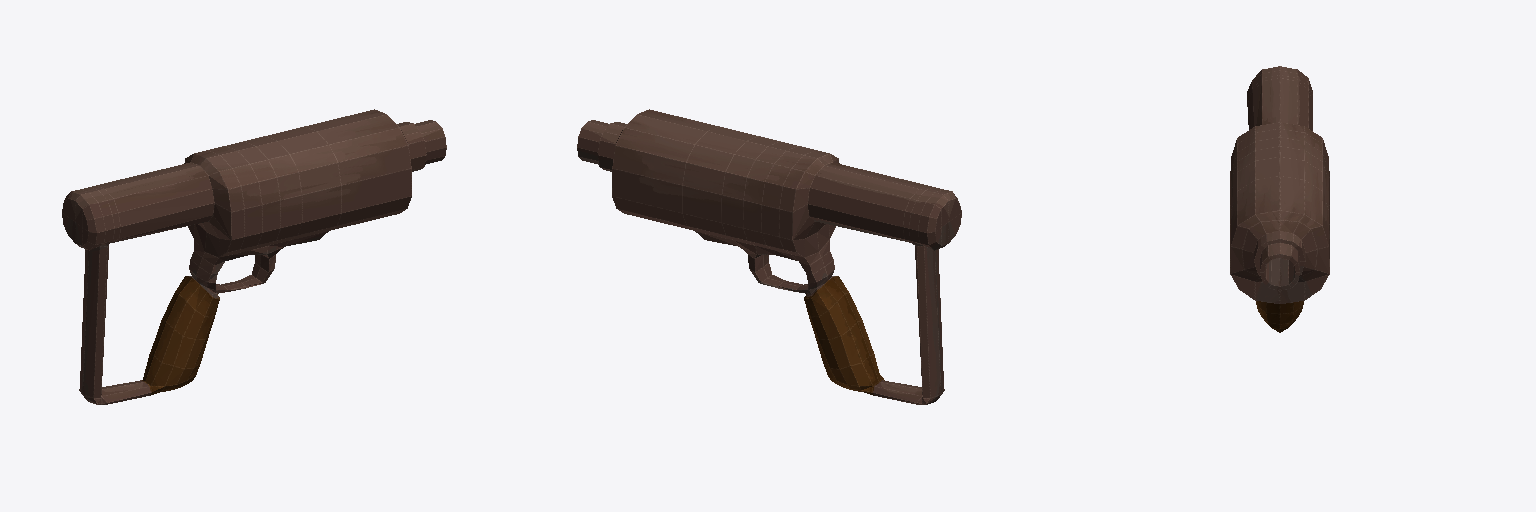
The picture shows the model from 3 angles: view 1: azimuth 30°, elevation 25°; view 2: azimuth 150°, elevation 25°; view 3: azimuth 270°, elevation 25°; orthographic projection.
Visible parts, largest first — view 1: GP_Hook; view 2: GP_Hook; view 3: GP_Hook.
Boxes of the visible parts, x1,y1,x2,y2 form: GP_Hook: [62, 109, 446, 404]; GP_Hook: [577, 109, 961, 404]; GP_Hook: [1230, 66, 1329, 332].
Size of the model in its own units: 12.54 by 7.28 by 2.99.
Materials: 1 (1 with a texture image).